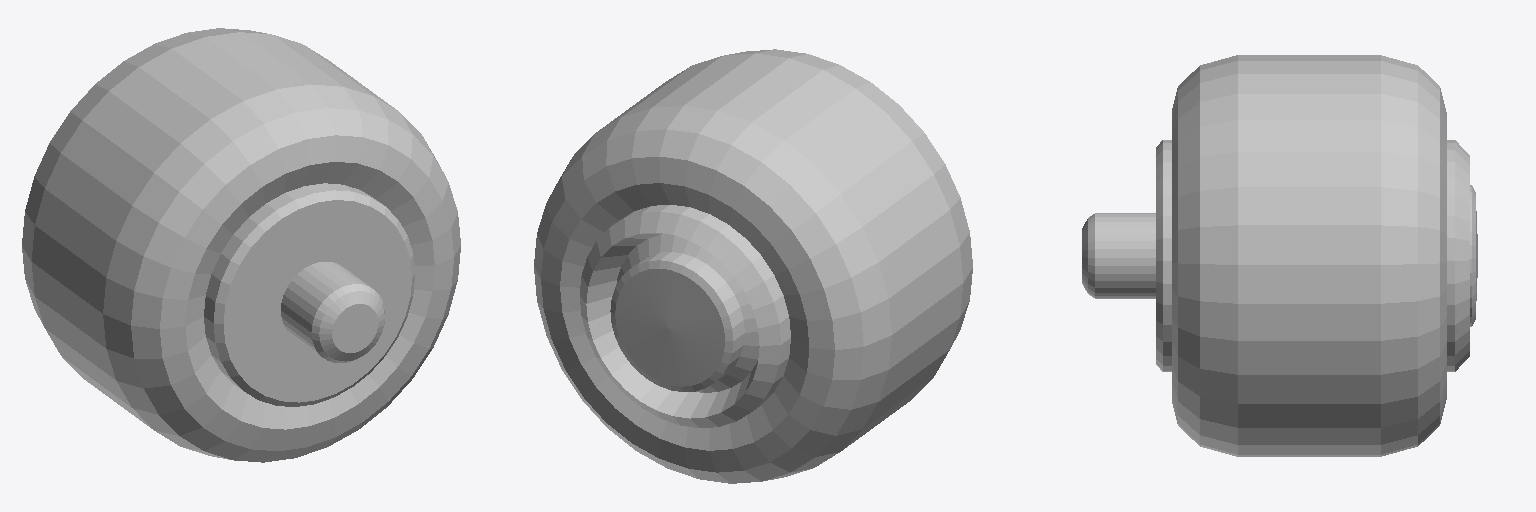
The model's file is mrsbaxter_wheel4.obj.
3 views of the same model, side by side, from view 1: azimuth 30°, elevation 25°; view 2: azimuth 150°, elevation 25°; view 3: azimuth 270°, elevation 25° (orthographic).
Parts seen in each view (by area): view 1: wheels_low.001; view 2: wheels_low.001; view 3: wheels_low.001.
Boxes of the visible parts, <box> form: wheels_low.001: <box>22,28,460,462</box>; wheels_low.001: <box>534,49,972,483</box>; wheels_low.001: <box>1082,55,1477,456</box>.
Size of the model in its own units: 1.13 by 1.13 by 1.12.